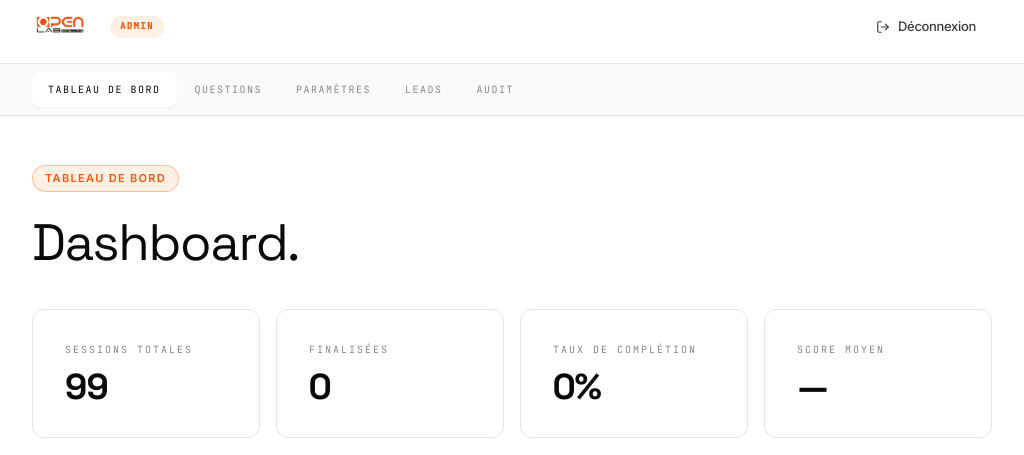
Test: AdminDashboard — Audit tab › affiche les entrées d'audit
Check: the text "99" is shown, box [65,364,108,410]
What coordinates should you click on to do the following:
click the button "Audit"
I would click on:
 (495, 90)
Its box is [460,72,530,107].
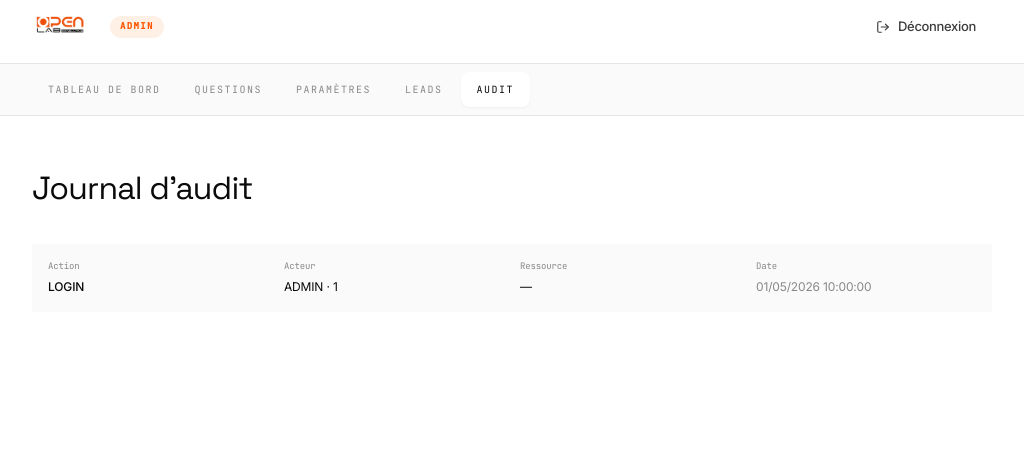
Check: the text "LOGIN" is shown, box [48,278,84,294]
